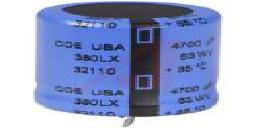Electrolytic-Capacitor: (28, 1, 226, 124)
